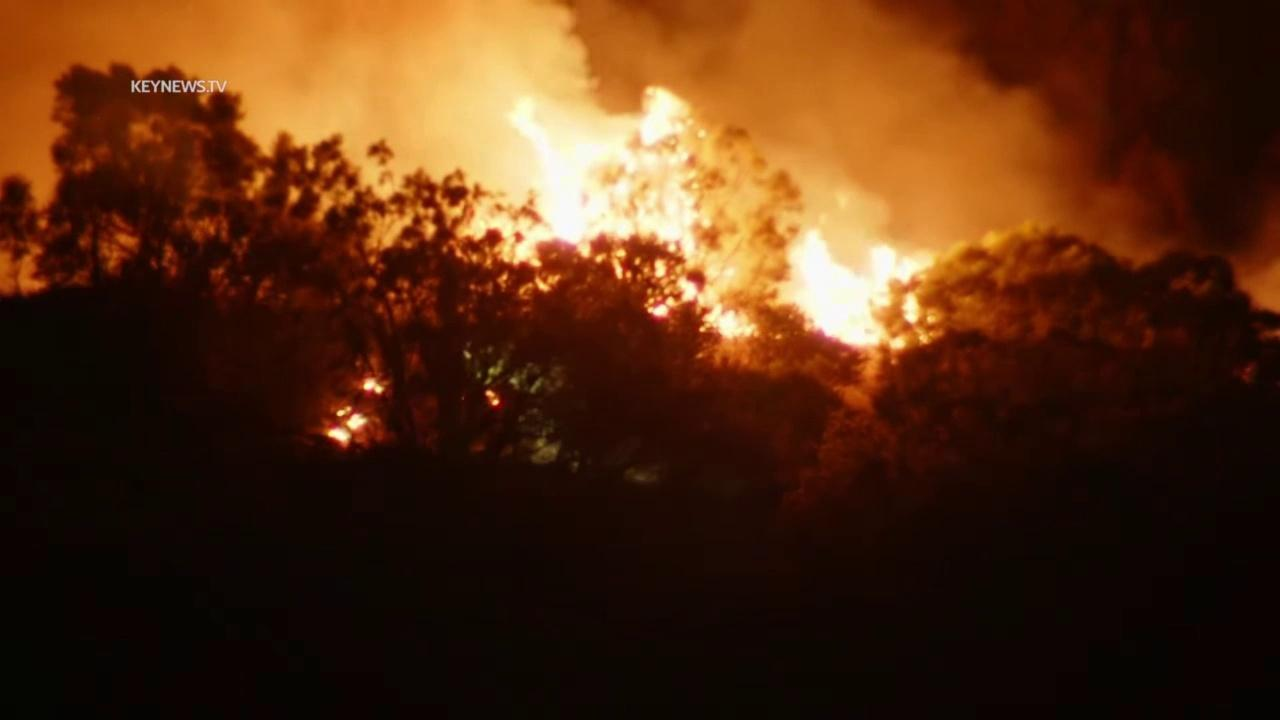fire: (507, 85, 762, 339), (773, 228, 947, 350), (323, 405, 371, 450), (360, 375, 386, 395), (481, 387, 501, 408)
smoke: (0, 0, 1280, 368)
